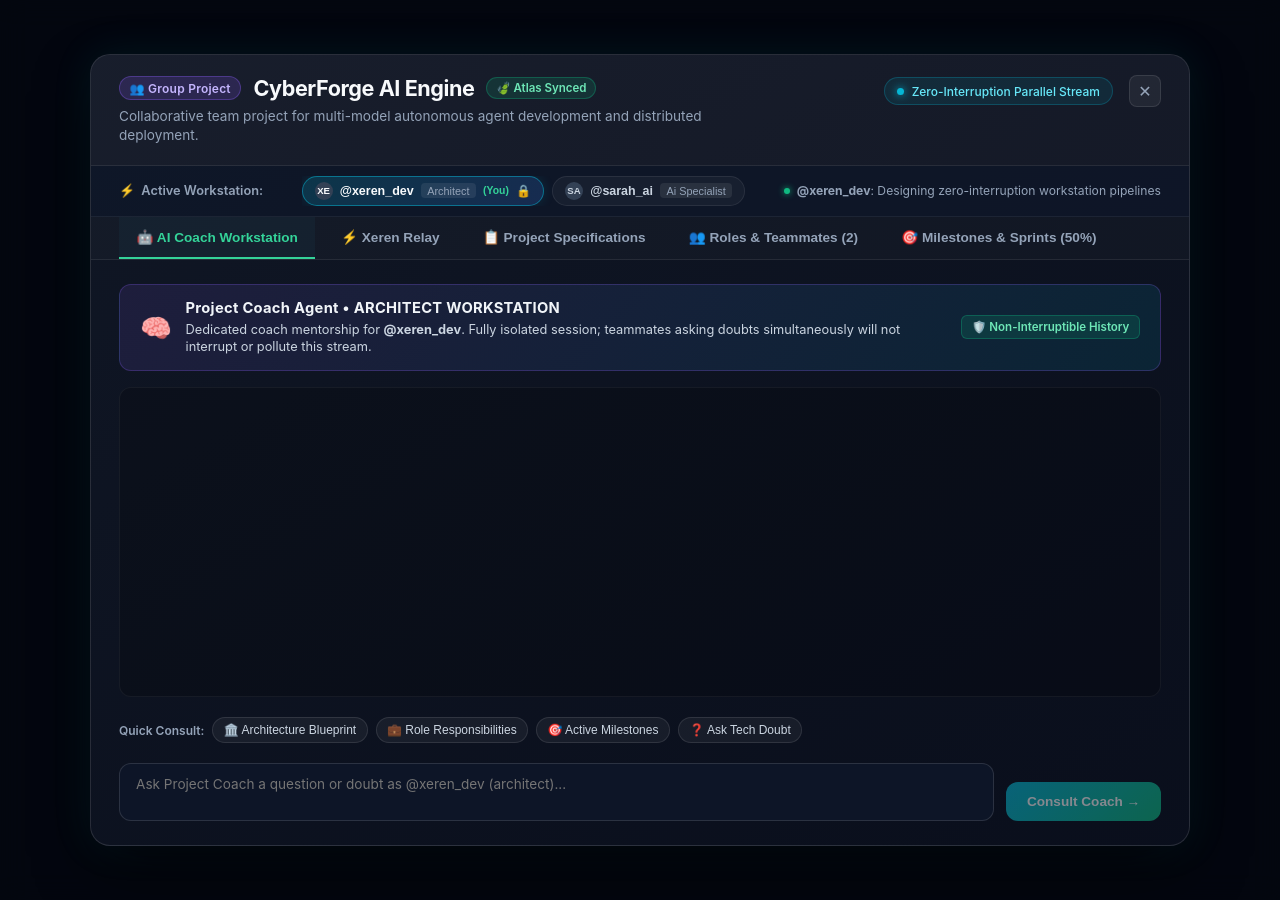
it: Project Workspace, Dedicated AI Coach, and Workstation Isolation › switches to Roles tab and displays member role matrix
The image size is (1280, 900).
Click the button "👥 Roles & Teammates (2)".
click(773, 238)  # box left=671, top=217, right=876, bottom=259
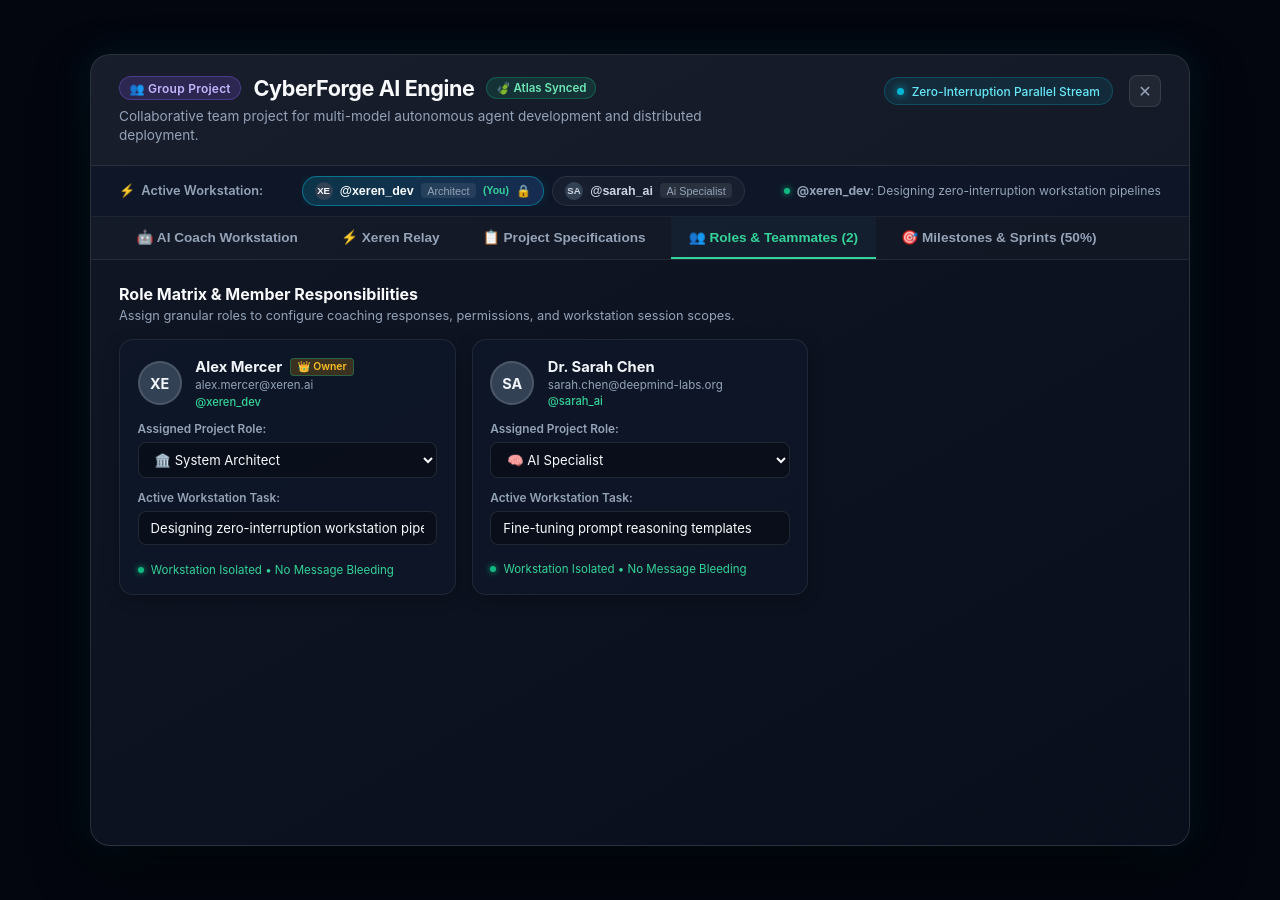
Now the heading "Role Matrix & Member Responsibilities" is shown, box left=119, top=284, right=418, bottom=304
Now the text "Alex Mercer" is shown, box left=195, top=358, right=282, bottom=376
Now the text "Dr. Sarah Chen" is shown, box left=548, top=358, right=655, bottom=376
